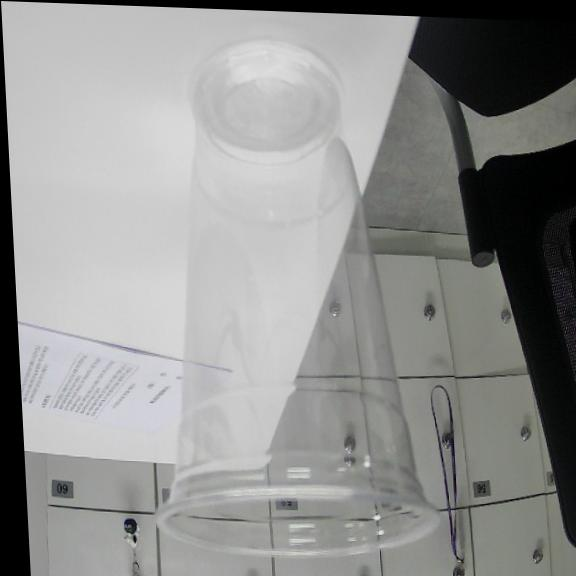Plastik: (156, 42, 438, 556)
